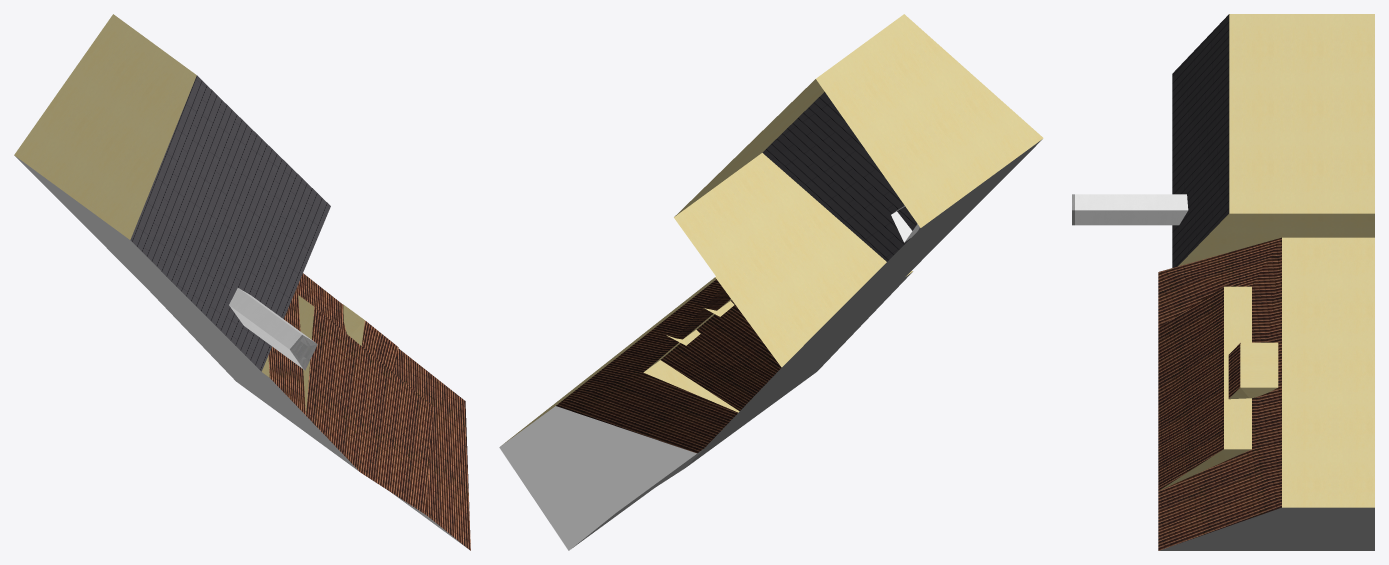
The model's file is Lai_37_2-origo.obj.
3 views of the same model, side by side, from view 1: azimuth 30°, elevation 25°; view 2: azimuth 150°, elevation 25°; view 3: azimuth 270°, elevation 25° (orthographic). The views are drawn at different scales.
Parts seen in each view (by area): view 1: Lai_37_2; view 2: Lai_37_2; view 3: Lai_37_2.
Boxes of the visible parts, x1,y1,x2,y2 form: Lai_37_2: (14, 14, 470, 550); Lai_37_2: (499, 14, 1043, 550); Lai_37_2: (1072, 14, 1374, 550).
Size of the model in its own units: 17.81 by 21.5 by 13.47.
